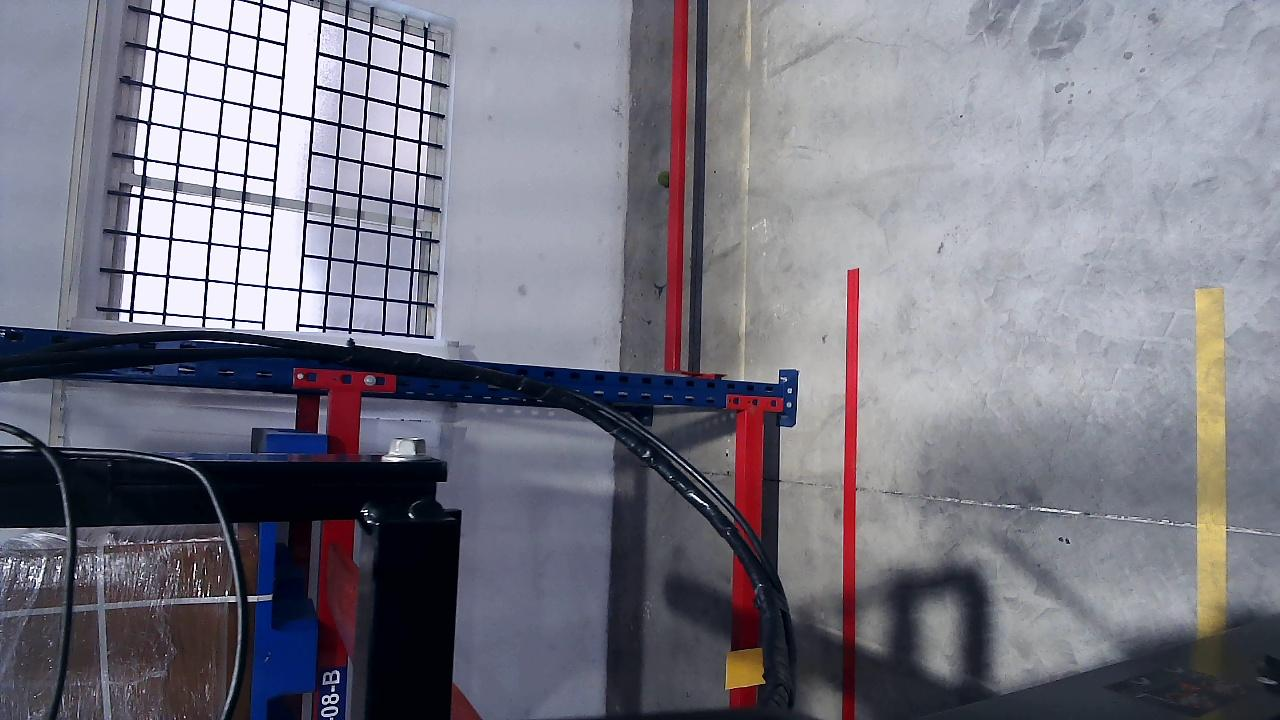h_rack: (313, 389, 364, 718), (731, 408, 770, 707), (841, 269, 866, 720)
orange_strip: (725, 647, 765, 693)
yellow_line: (1195, 288, 1226, 636)
